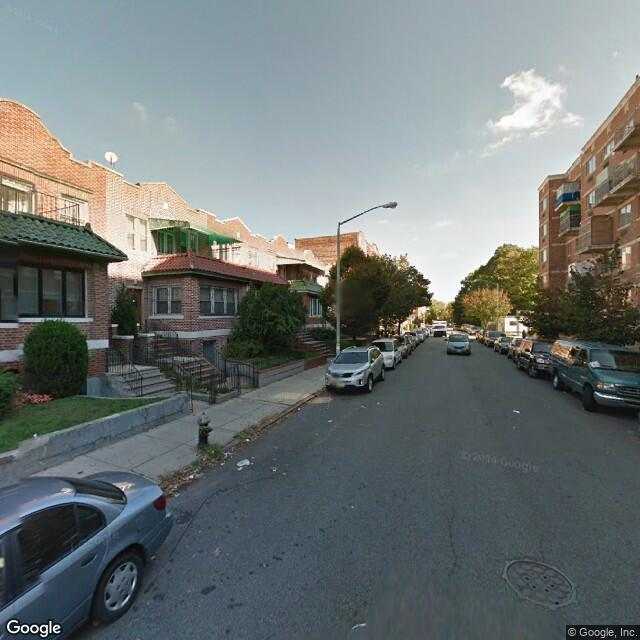litter: (237, 458, 252, 467), (189, 474, 201, 479), (514, 407, 521, 415), (272, 465, 279, 471), (327, 417, 335, 421), (33, 433, 41, 437), (175, 492, 180, 496), (352, 624, 368, 625), (298, 407, 300, 408)
